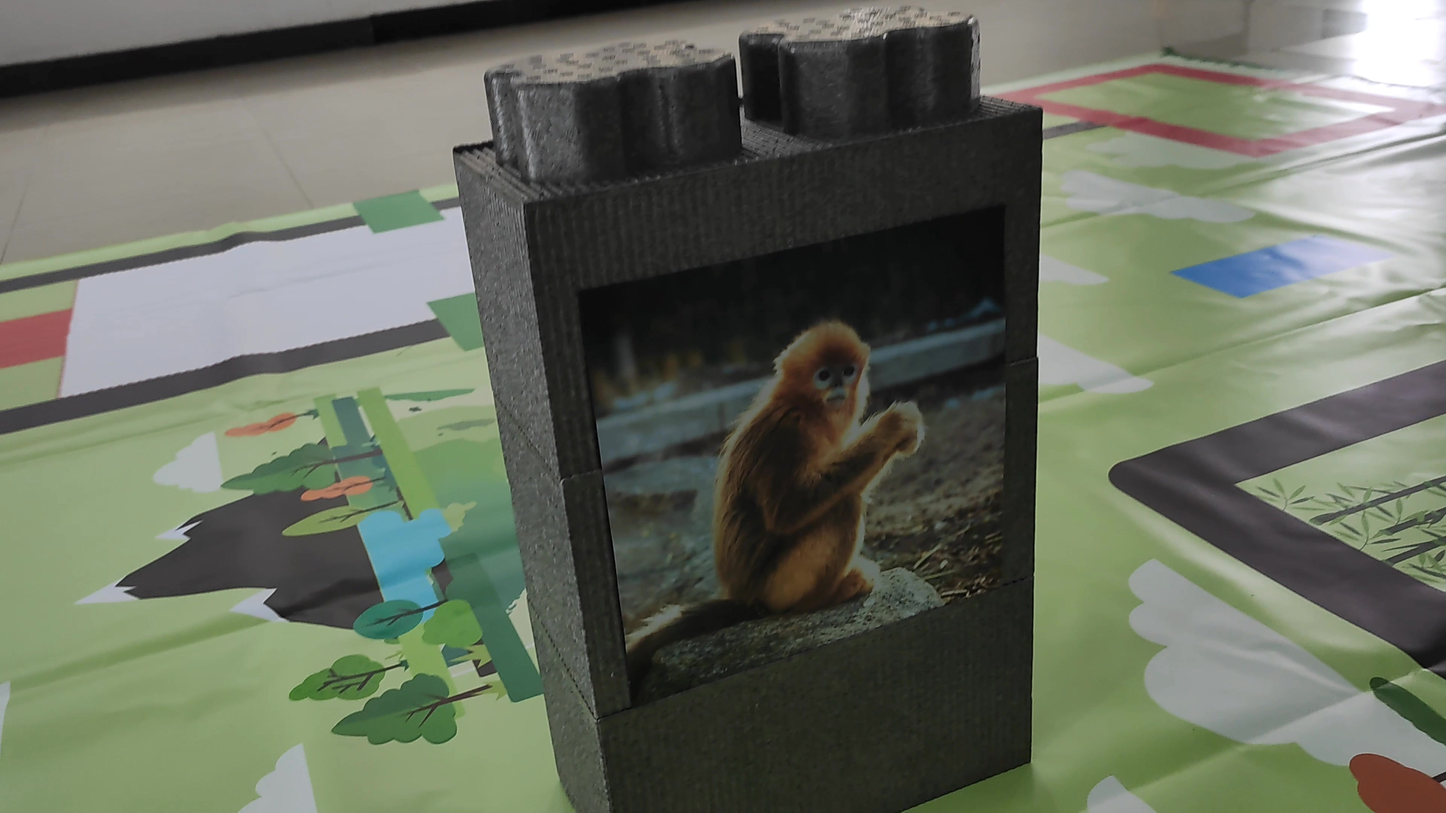monkey: (702, 317, 944, 612)
